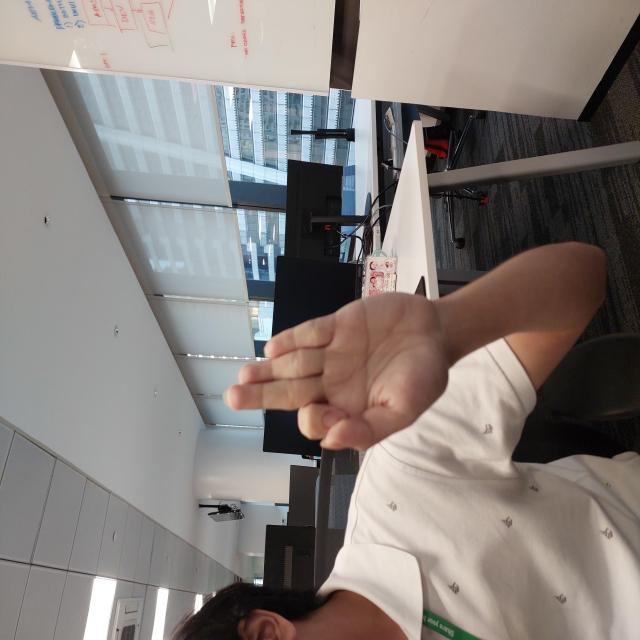F: (186, 223, 352, 448)
